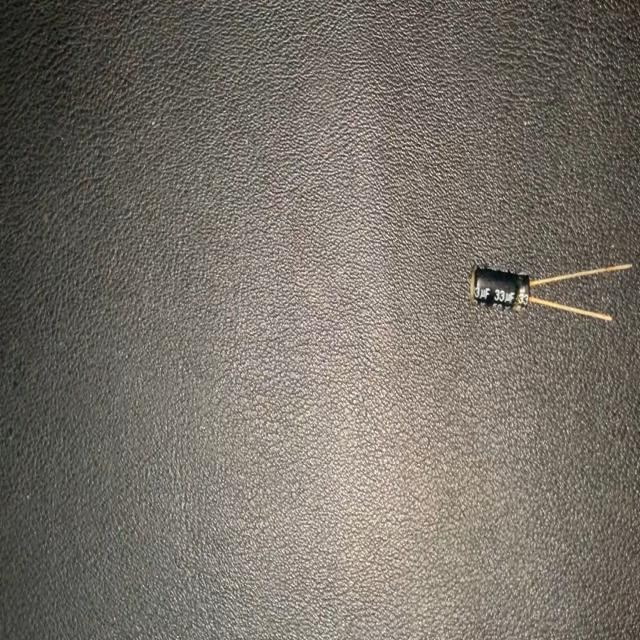capacitor: (465, 254, 633, 325)
rust: (515, 272, 536, 312), (468, 261, 484, 308)
